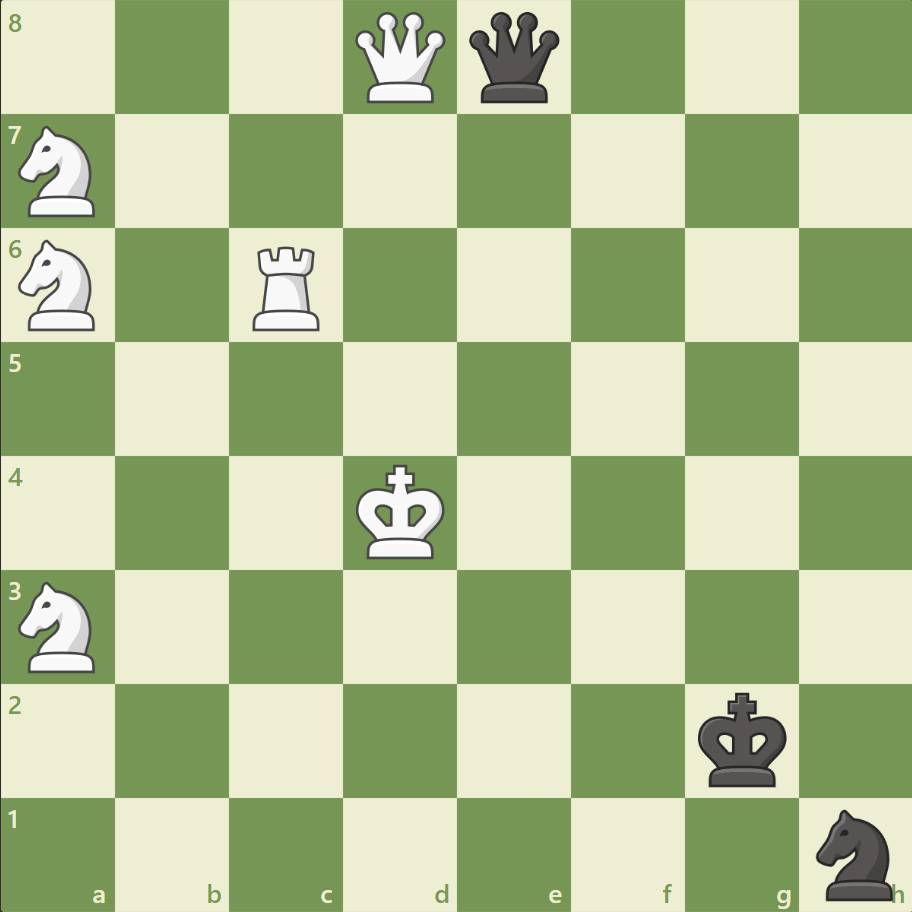K: (351, 458, 451, 566)
N: (11, 234, 108, 337), (11, 121, 108, 223), (11, 575, 108, 677)
Q: (351, 9, 450, 108)
R: (246, 239, 329, 336)
k: (692, 685, 792, 793)
n: (806, 802, 903, 904)
q: (464, 9, 563, 108)
